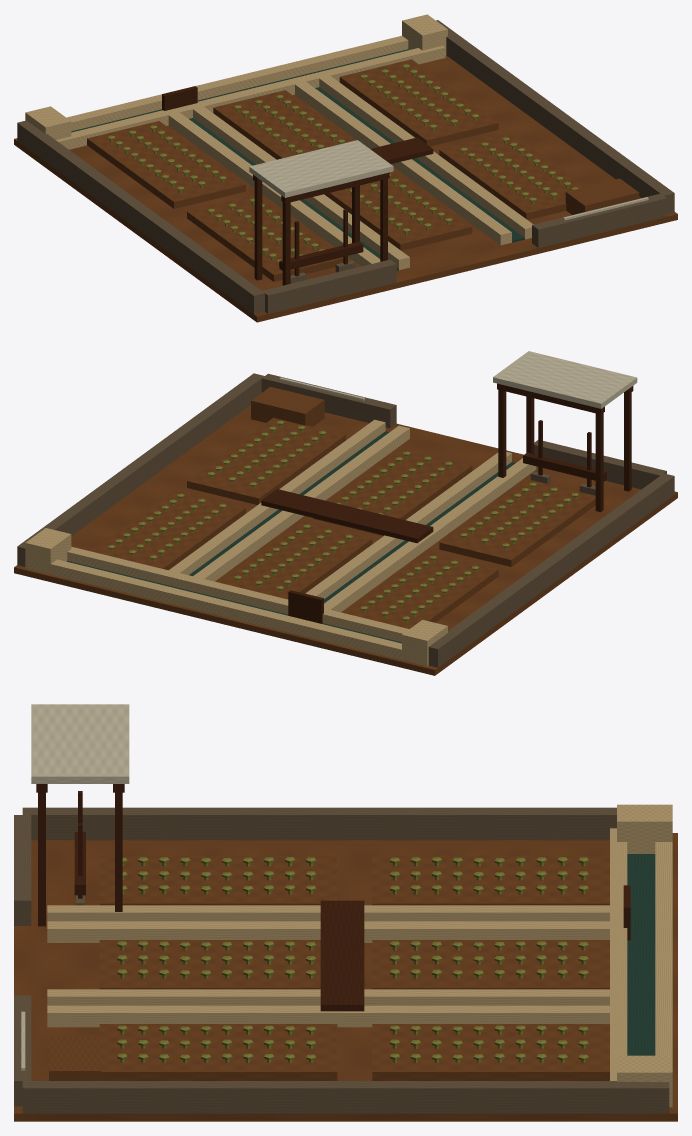
File: Berber_Farm_Age3_depleted.fbx
3 views of the same model, one above another, from view 1: azimuth 30°, elevation 25°; view 2: azimuth 150°, elevation 25°; view 3: azimuth 270°, elevation 25° (orthographic). The views are drawn at different scales.
Parts seen in each view (by area): view 1: flat_earth_plot, low_side_edging, raised_bed_0_1, low_side_edging.001, raised_bed_2_1, raised_bed_2_0, raised_bed_0_0, raised_bed_1_0, header_channel_bank.001, raised_bed_1_1, woven_tool_shade, header_channel_bank (+19 smaller); view 2: flat_earth_plot, low_side_edging, raised_bed_0_0, header_channel_bank.001, raised_bed_2_0, low_side_edging.001, raised_bed_2_1, raised_bed_0_1, raised_bed_1_1, raised_bed_1_0, header_channel_bank, woven_tool_shade (+20 smaller); view 3: flat_earth_plot, low_side_edging.001, low_side_edging, raised_bed_2_1, raised_bed_2_0, branch_channel_bank.003, raised_bed_0_1, raised_bed_1_1, raised_bed_0_0, branch_channel_bank.001, raised_bed_1_0, branch_channel_bank.002 (+13 smaller).
Part boxes in pixels (x1,y1,x2,y2): flat_earth_plot: (14, 55, 677, 322); low_side_edging: (17, 120, 264, 314); raised_bed_0_1: (87, 121, 245, 208); low_side_edging.001: (436, 20, 674, 213); raised_bed_2_1: (339, 59, 498, 146); raised_bed_2_0: (439, 132, 585, 219); raised_bed_0_0: (187, 195, 343, 281); raised_bed_1_0: (324, 169, 472, 250); header_channel_bank.001: (66, 35, 408, 131); raised_bed_1_1: (213, 90, 354, 159); woven_tool_shade: (249, 140, 393, 197); header_channel_bank: (56, 45, 445, 149); flat_earth_plot: (14, 405, 677, 675); low_side_edging: (428, 473, 674, 667); raised_bed_0_0: (439, 479, 595, 566); header_channel_bank.001: (30, 559, 422, 664); raised_bed_2_0: (187, 417, 345, 504); low_side_edging.001: (17, 373, 264, 566); raised_bed_2_1: (91, 490, 245, 570); raised_bed_0_1: (343, 552, 498, 628); raised_bed_1_1: (217, 521, 372, 599); raised_bed_1_0: (313, 448, 472, 535); header_channel_bank: (67, 546, 409, 642); woven_tool_shade: (493, 351, 637, 408); flat_earth_plot: (14, 833, 677, 1121); low_side_edging.001: (22, 1081, 669, 1113); low_side_edging: (22, 807, 616, 840); raised_bed_2_1: (372, 1024, 609, 1080); raised_bed_2_0: (99, 1024, 337, 1080); branch_channel_bank.003: (47, 1005, 609, 1027); raised_bed_0_1: (372, 855, 609, 905); raised_bed_1_1: (372, 940, 609, 989); raised_bed_0_0: (99, 855, 337, 905); branch_channel_bank.001: (47, 921, 609, 942); raised_bed_1_0: (99, 940, 320, 989); branch_channel_bank.002: (47, 989, 609, 1005).
Size of the model in its own units: 380 by 101 by 380.
Materials: 7 (7 with a texture image).
